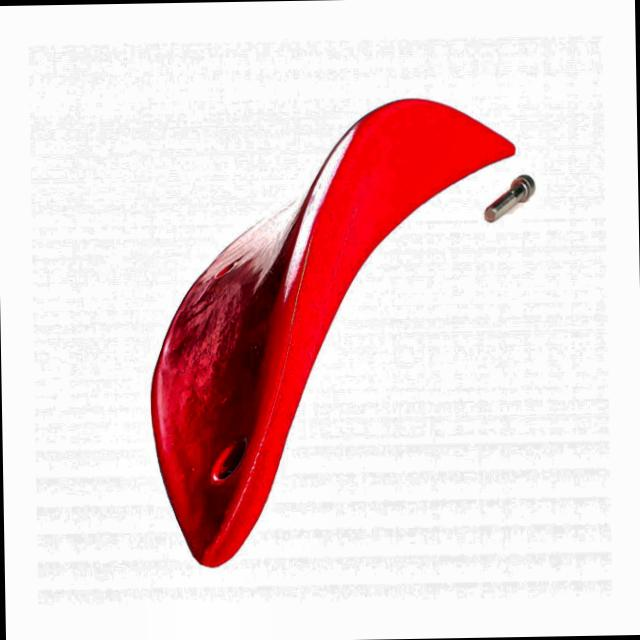Hold: (139, 84, 538, 577), (142, 95, 521, 574)
